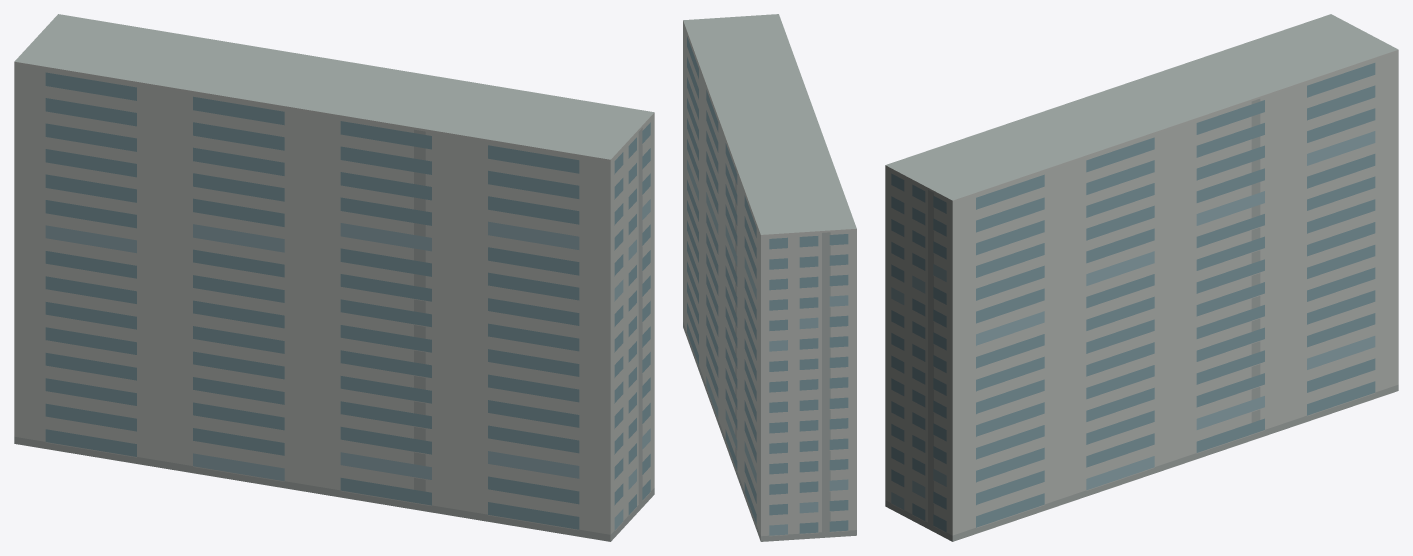
The model's file is residential-9e9a283c-e648-4a6b-917d-3d15fb94df29.glb.
3 renders of one model, left to right at view 1: azimuth 30°, elevation 25°; view 2: azimuth 150°, elevation 25°; view 3: azimuth 270°, elevation 25°, orthographic. The views are drawn at different scales.
Visible parts, largest first — view 1: residential-9e9a283c-e648-4a6b-917d-3d15fb94df29.tmp; view 2: residential-9e9a283c-e648-4a6b-917d-3d15fb94df29.tmp; view 3: residential-9e9a283c-e648-4a6b-917d-3d15fb94df29.tmp.
Part boxes in pixels (bbox=[...]): residential-9e9a283c-e648-4a6b-917d-3d15fb94df29.tmp: bbox=[14, 14, 654, 541]; residential-9e9a283c-e648-4a6b-917d-3d15fb94df29.tmp: bbox=[683, 14, 856, 541]; residential-9e9a283c-e648-4a6b-917d-3d15fb94df29.tmp: bbox=[885, 14, 1398, 541].
Bounding box in the file's own units: 48.1 × 41 × 55.91.
